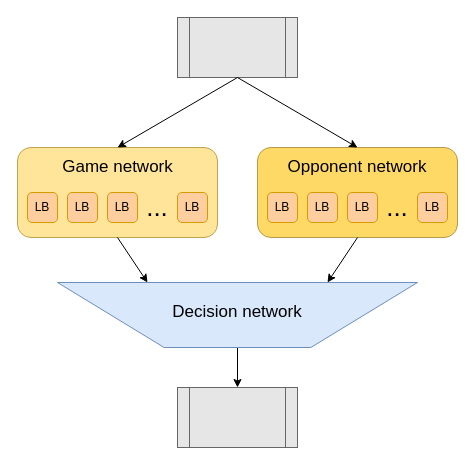
Image size: 475x465. Some labels were removed from this diagram. The shapes that lost their labels are listed below. From the top down, each one's centre as x and y in pixels, then its label:
the point at 237,47: Features
the point at 237,417: Output
